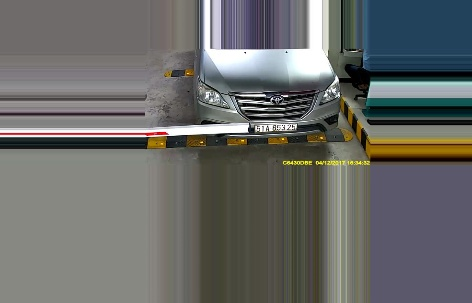plate: (255, 121, 300, 133)
